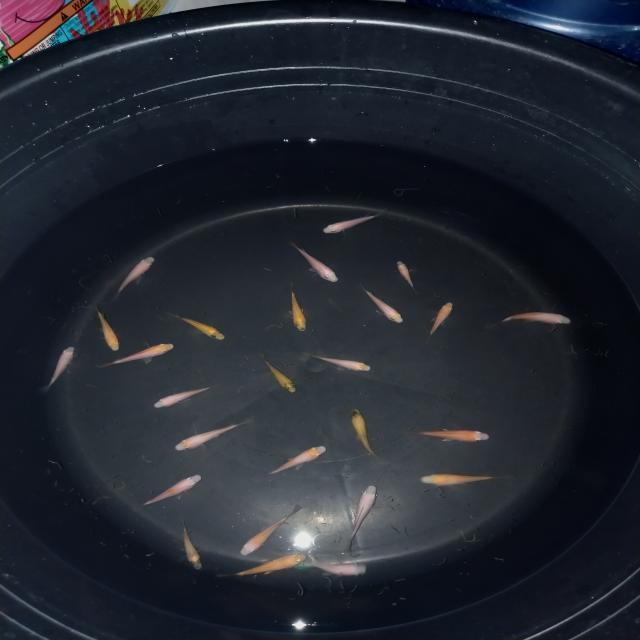nila: (236, 504, 304, 556), (220, 549, 310, 582), (172, 417, 256, 452), (254, 443, 332, 479), (132, 472, 206, 508), (344, 483, 380, 556), (166, 310, 235, 346), (286, 240, 340, 284), (111, 252, 159, 301), (344, 408, 387, 460), (89, 302, 130, 356), (356, 284, 408, 324), (94, 344, 180, 368), (320, 207, 390, 235), (170, 518, 206, 572), (301, 550, 370, 578), (40, 344, 76, 397), (254, 354, 300, 394), (151, 384, 216, 410), (418, 470, 508, 488), (282, 285, 313, 334), (491, 310, 578, 326), (424, 300, 454, 342), (394, 260, 418, 294)
